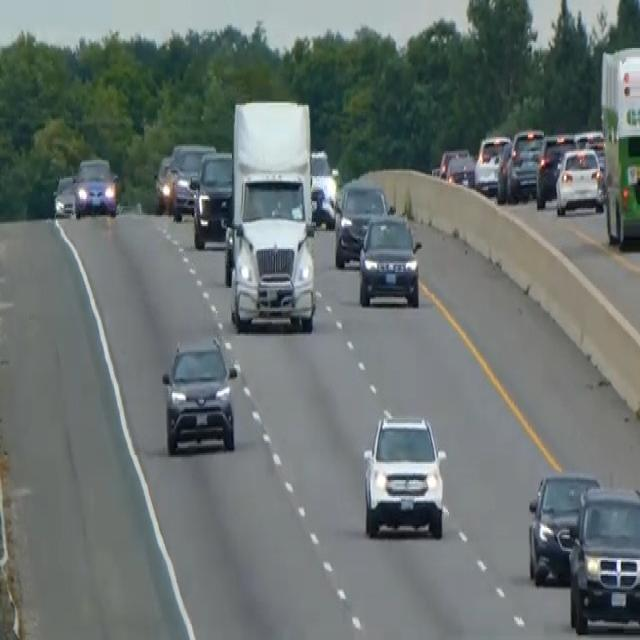bus: (598, 43, 639, 249)
car: (361, 407, 447, 539), (567, 483, 639, 633), (527, 469, 599, 585), (357, 212, 421, 308), (333, 176, 388, 268), (192, 149, 233, 247), (169, 142, 215, 220), (554, 144, 604, 215), (535, 132, 576, 208), (507, 126, 544, 201), (73, 155, 117, 217), (473, 133, 510, 194), (309, 148, 337, 228), (153, 153, 175, 211), (444, 148, 475, 186), (52, 171, 76, 217), (438, 144, 467, 180)
jeep: (160, 333, 238, 455)
lorry: (222, 96, 317, 332)
